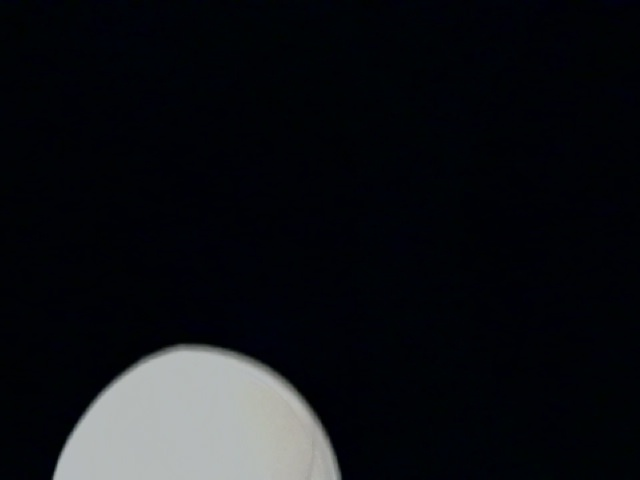KHSLJ: (1, 1, 497, 345)
